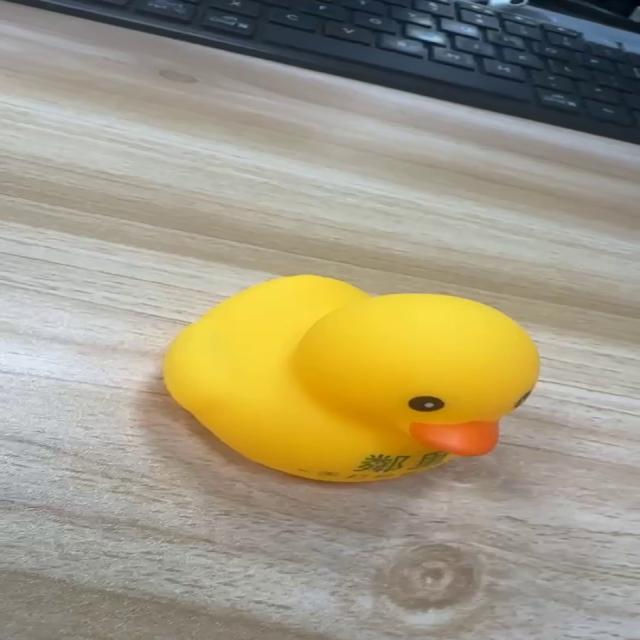yellow_duck: (160, 273, 540, 483)
